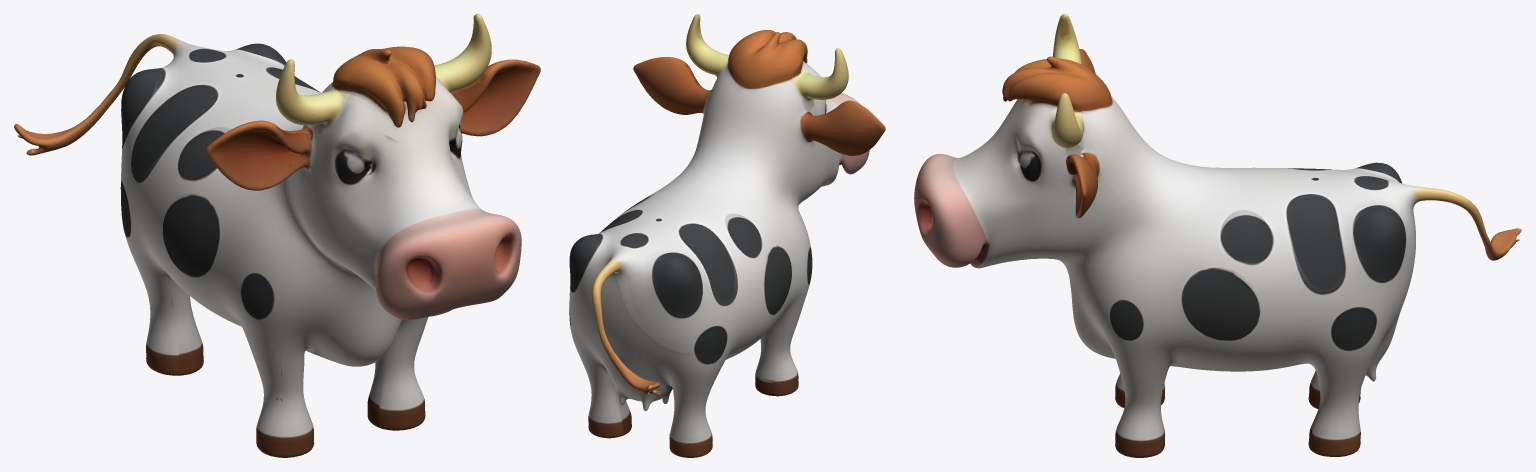
Rendered from Cow 01.fbx.
3 views of the same model, side by side, from view 1: azimuth 30°, elevation 25°; view 2: azimuth 150°, elevation 25°; view 3: azimuth 270°, elevation 25° (orthographic). The views are drawn at different scales.
Parts seen in each view (by area): view 1: Cow 01; view 2: Cow 01; view 3: Cow 01.
Part boxes in pixels (bbox=[...]): Cow 01: bbox=[14, 14, 540, 457]; Cow 01: bbox=[569, 14, 885, 457]; Cow 01: bbox=[914, 14, 1521, 457].
Size of the model in its own units: 104 by 128 by 190.
